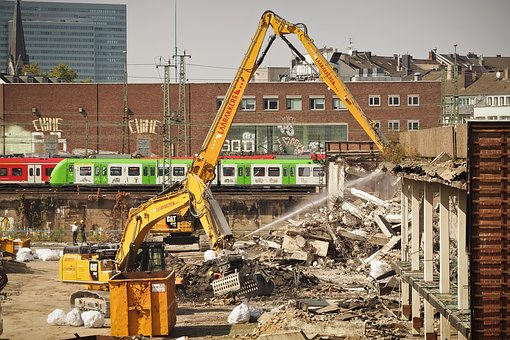excavator: (64, 8, 394, 337), (58, 176, 275, 306)
